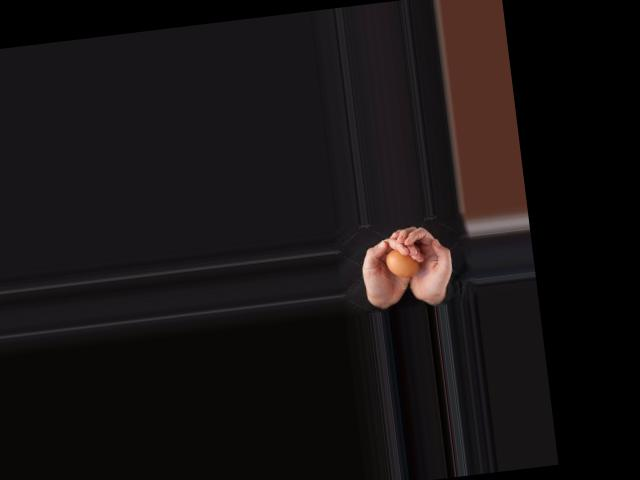egg: (385, 247, 422, 279)
